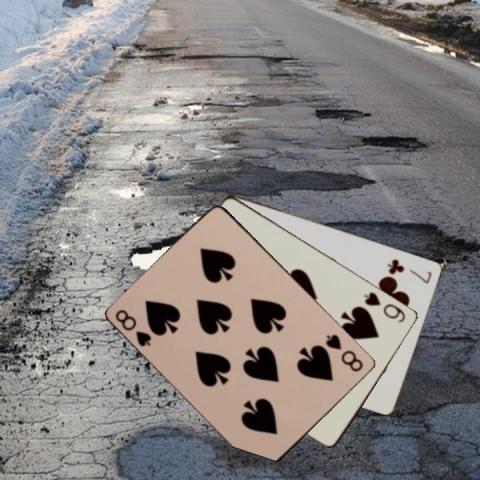6s: (361, 288, 408, 324)
7c: (385, 255, 434, 285)
8s: (323, 331, 365, 373), (112, 307, 153, 348)
